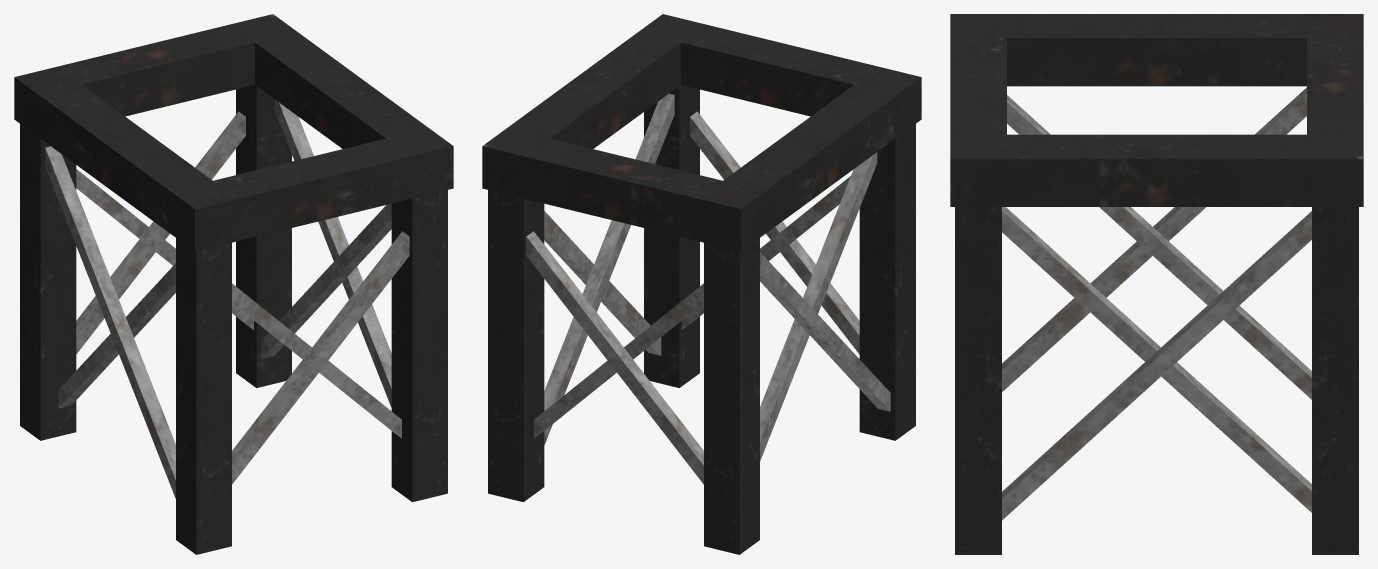
Rendered from beam_s_4.fbx.
3 views of the same model, side by side, from view 1: azimuth 30°, elevation 25°; view 2: azimuth 150°, elevation 25°; view 3: azimuth 270°, elevation 25° (orthographic). The views are drawn at different scales.
Visible parts, largest first — view 1: beam_s_4; view 2: beam_s_4; view 3: beam_s_4.
Part boxes in pixels (x1,y1,x2,y2): beam_s_4: [14, 14, 453, 554]; beam_s_4: [482, 14, 921, 554]; beam_s_4: [950, 14, 1363, 554].
Size of the model in its own units: 1.92 by 2.46 by 2.32.
